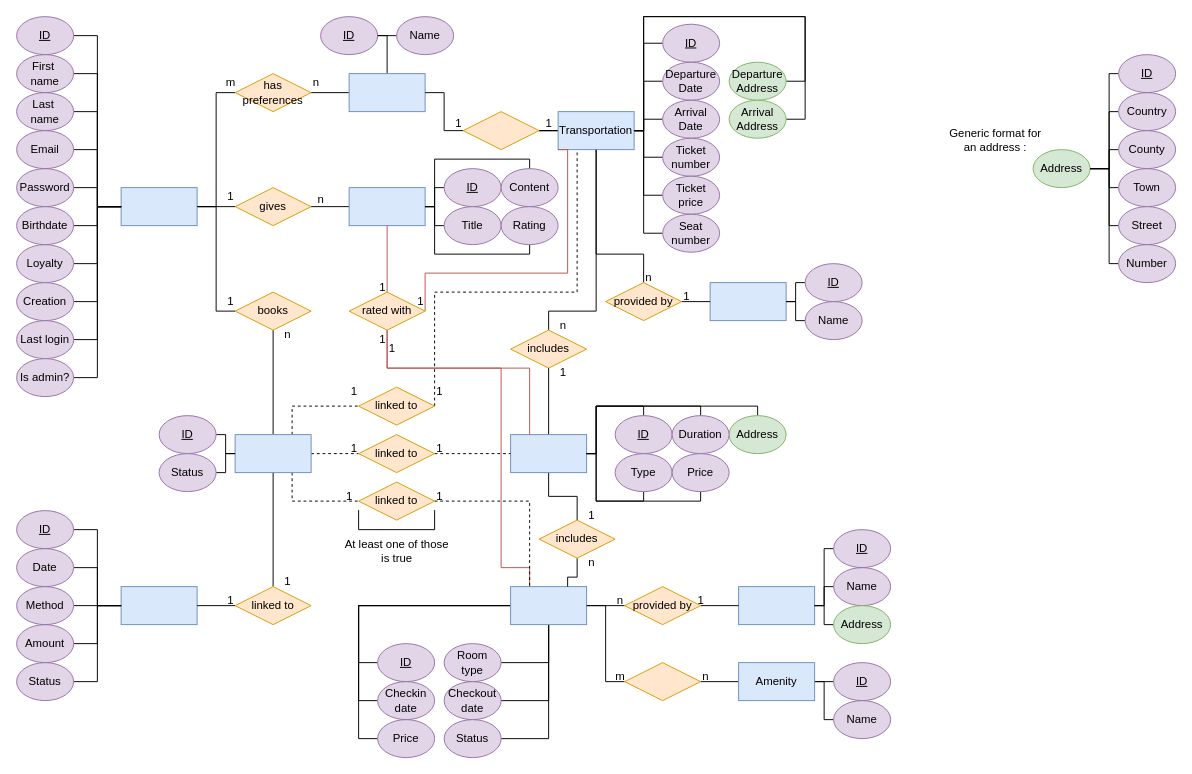
This 1192x774 diagram has some shape labels left out. Each missing label, with the centre of its shape:
"Accommodation" belongs at pixel 548 605.
"Accommodation Provider" belongs at pixel 776 605.
"has" belongs at pixel 500 130.
"offers" belongs at pixel 662 681.
"Package" belongs at pixel 548 453.
"Payment" belongs at pixel 158 605.
"Reservation" belongs at pixel 272 453.
"Review" belongs at pixel 386 206.
"Transportation Provider" belongs at pixel 747 301.
"Transportation Type" belongs at pixel 386 92.
"User" belongs at pixel 158 206.
